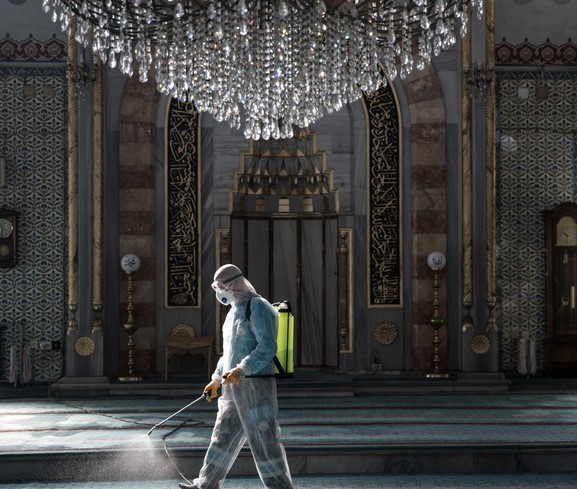face_with_mask: (207, 262, 251, 310)
